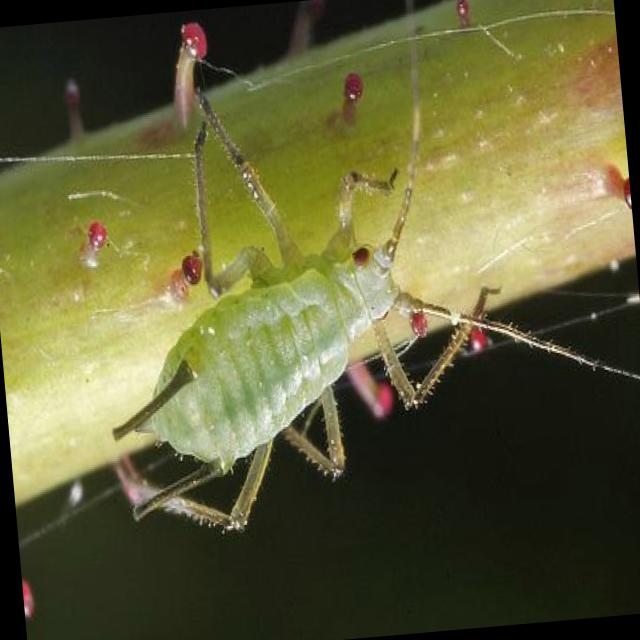Aphid: (84, 73, 552, 535)
